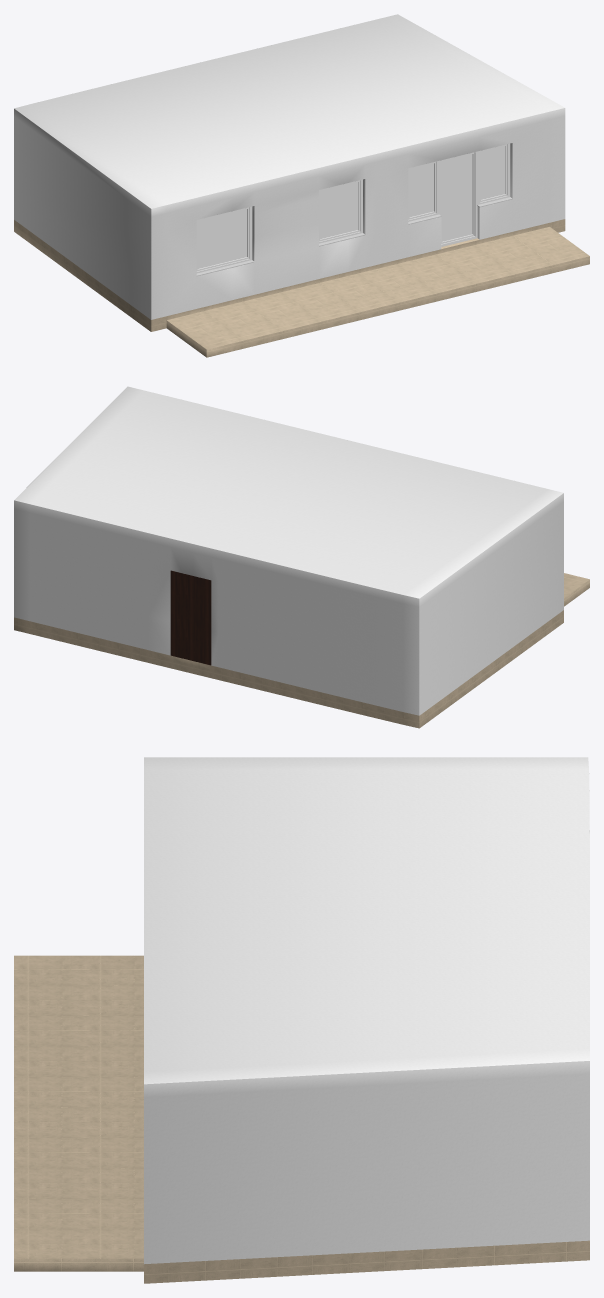
File: Ablewicza 15.gltf
The picture shows the model from 3 angles, top to bottom: view 1: azimuth 30°, elevation 25°; view 2: azimuth 150°, elevation 25°; view 3: azimuth 270°, elevation 25°; orthographic projection. The views are drawn at different scales.
Visible parts, largest first — view 1: Flat, Window, Windowsill; view 2: Flat, Door; view 3: Flat.
Boxes of the visible parts, x1,y1,x2,y2 form: Flat: (14, 14, 589, 357); Window: (196, 143, 510, 273); Windowsill: (196, 197, 512, 276); Flat: (14, 386, 589, 728); Door: (170, 570, 211, 665); Flat: (14, 757, 589, 1283).
Size of the model in its own units: 10.72 by 3.05 by 7.98.
31 materials, 10 textured.
